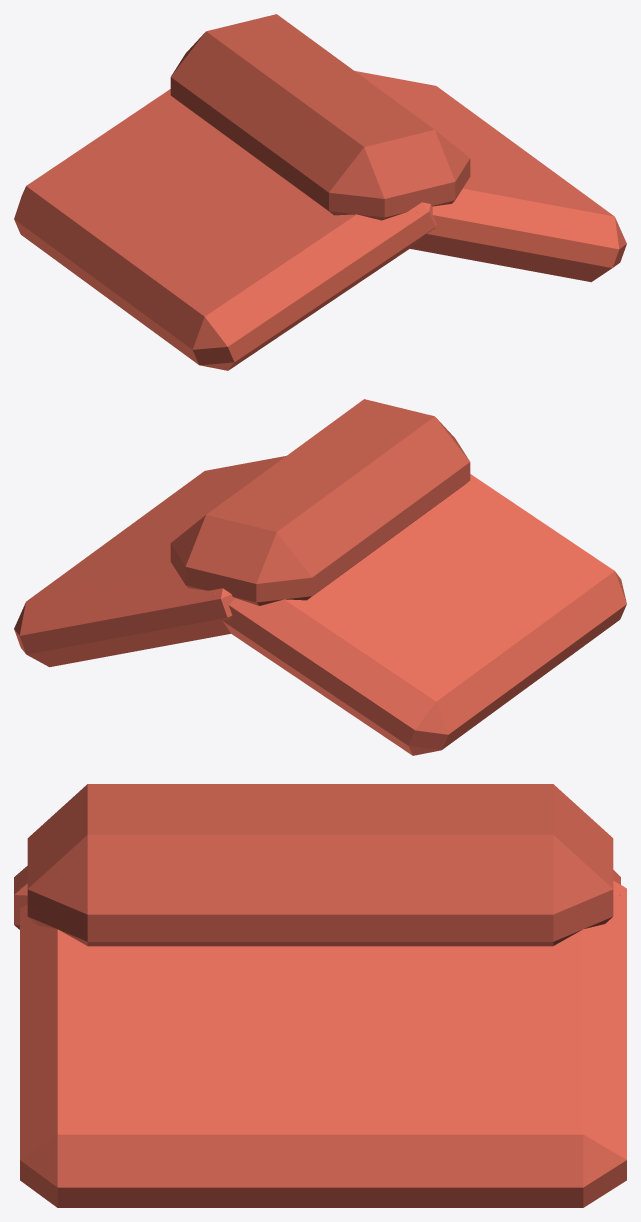
File: roof_ridge_cap.glb
3 renders of one model, top to bottom at view 1: azimuth 30°, elevation 25°; view 2: azimuth 150°, elevation 25°; view 3: azimuth 270°, elevation 25°, orthographic. The views are drawn at different scales.
Parts seen in each view (by area): view 1: roof_ridge_cap; view 2: roof_ridge_cap; view 3: roof_ridge_cap.
Part boxes in pixels (<box>): roof_ridge_cap: <box>14,14,626,370</box>; roof_ridge_cap: <box>14,399,626,755</box>; roof_ridge_cap: <box>14,784,626,1207</box>.
Bounding box in the file's own units: 0.4915 × 0.1953 × 0.408.
